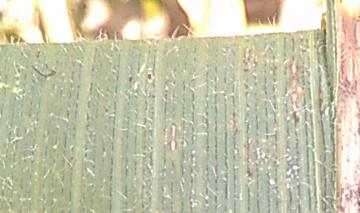tarspot: (289, 108, 301, 126), (143, 72, 157, 83), (125, 73, 136, 84)
